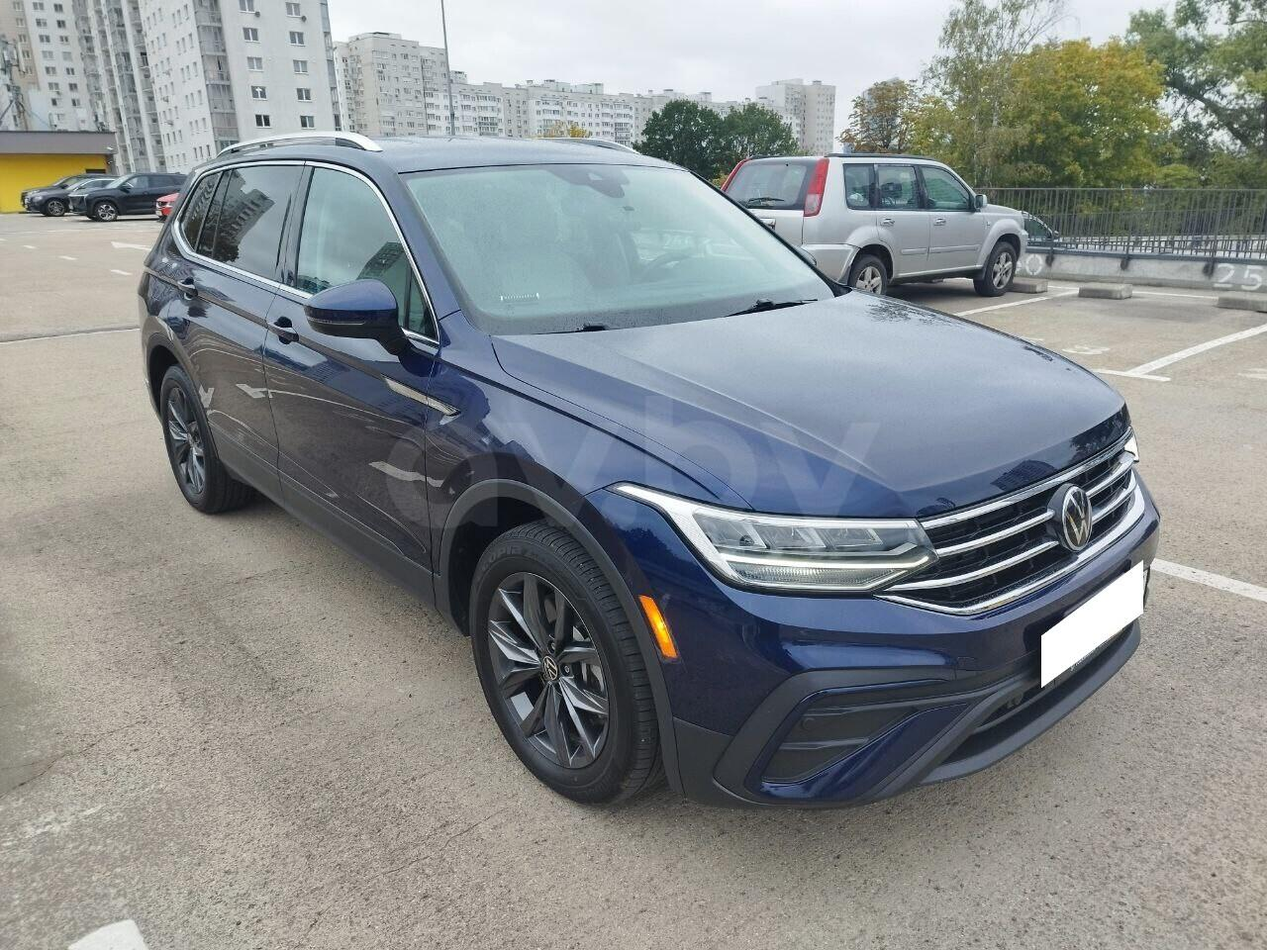Tiguan_2020-2024: (135, 127, 1154, 820)
